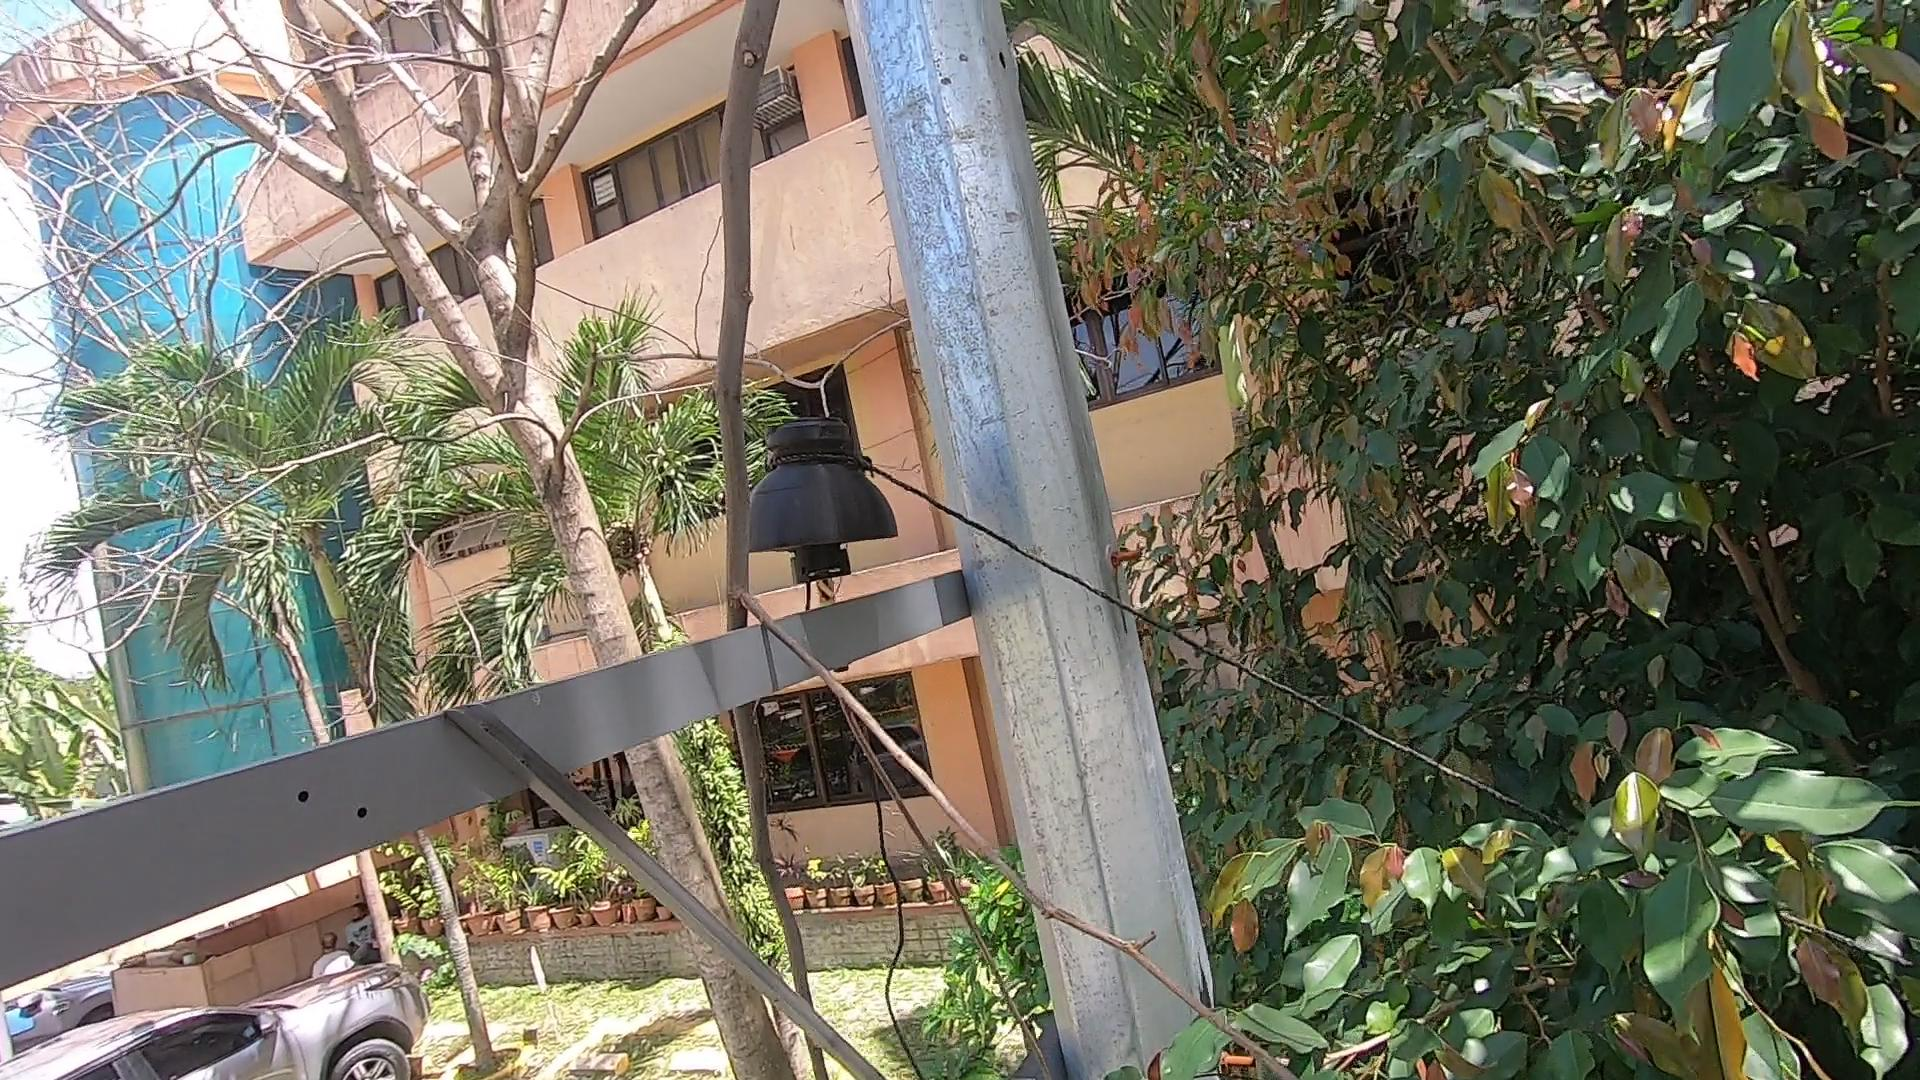tree branch: (655, 3, 913, 1080)
